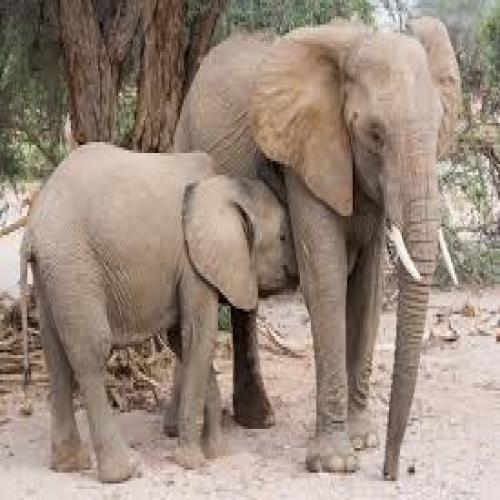asian_elephant-endangered: (170, 19, 461, 474), (17, 142, 307, 484)
